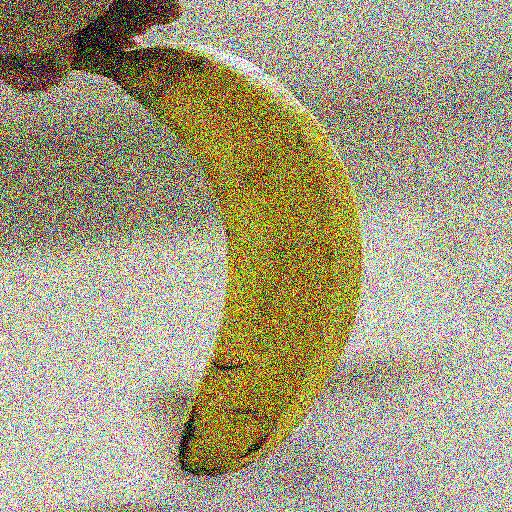fruit: (285, 129, 438, 435)
